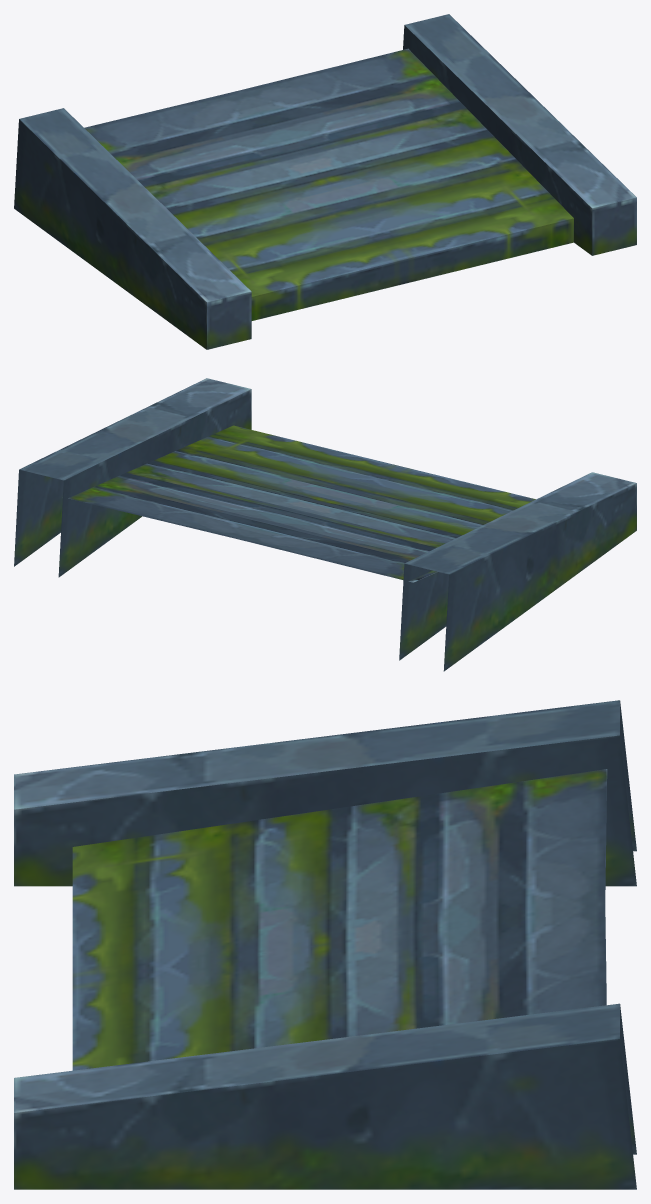
File: fb_tys_zj_01_d.FBX
The picture shows the model from 3 angles, top to bottom: view 1: azimuth 30°, elevation 25°; view 2: azimuth 150°, elevation 25°; view 3: azimuth 270°, elevation 25°; orthographic projection. The views are drawn at different scales.
Visible parts, largest first — view 1: fb_tys_zj_01_d; view 2: fb_tys_zj_01_d; view 3: fb_tys_zj_01_d.
Boxes of the visible parts, left/top/right/bottom form: fb_tys_zj_01_d: left=14, top=14, right=636, bottom=349; fb_tys_zj_01_d: left=14, top=378, right=636, bottom=671; fb_tys_zj_01_d: left=14, top=700, right=636, bottom=1189.
Bounding box in the file's own units: 497 × 103 × 387.
